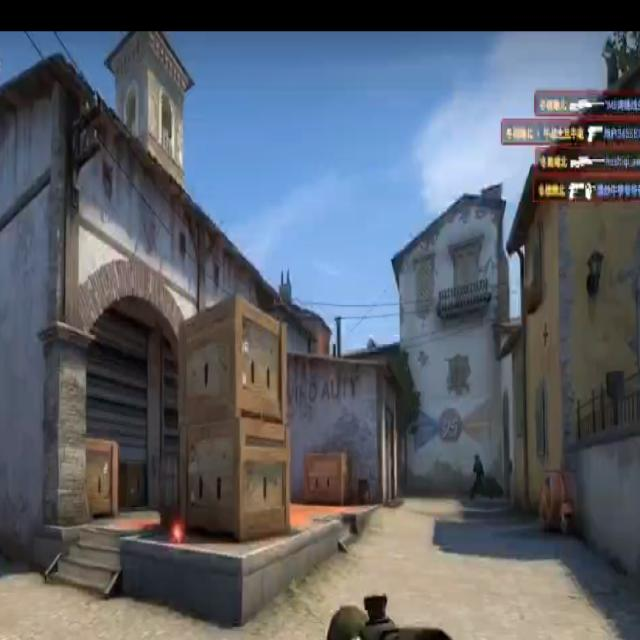person2: (470, 455, 492, 499)
